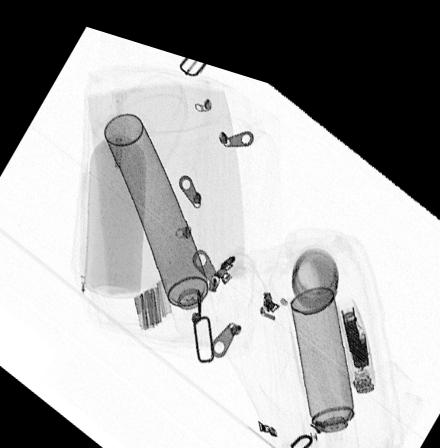Sprayer: (102, 104, 213, 322), (288, 266, 357, 438)
